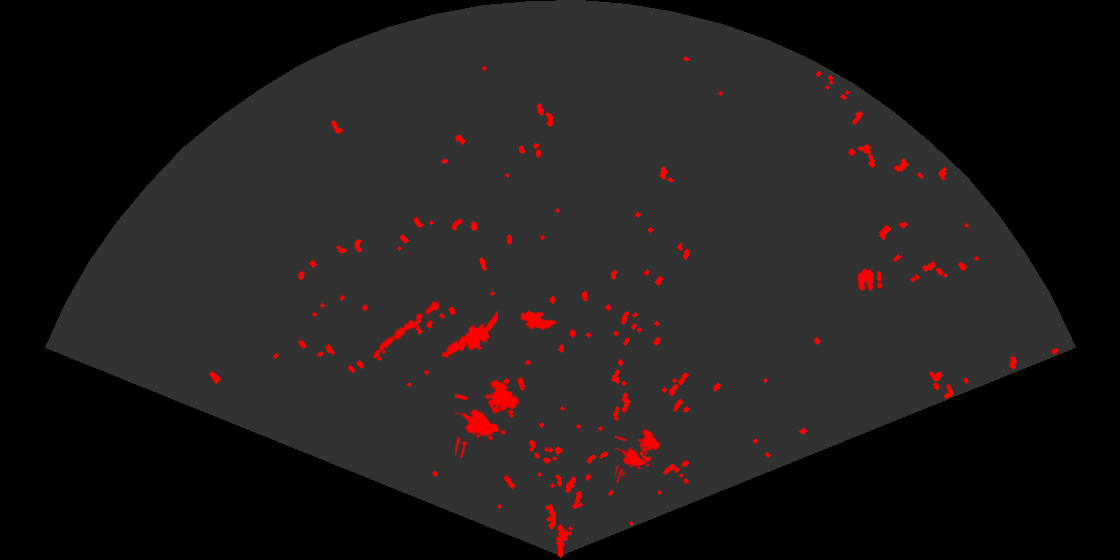AUV: (519, 309, 559, 332)
ball: (856, 267, 884, 293)
cage: (455, 377, 521, 458), (615, 427, 662, 483)
chain: (371, 295, 446, 361)
frogman: (440, 311, 498, 359)
